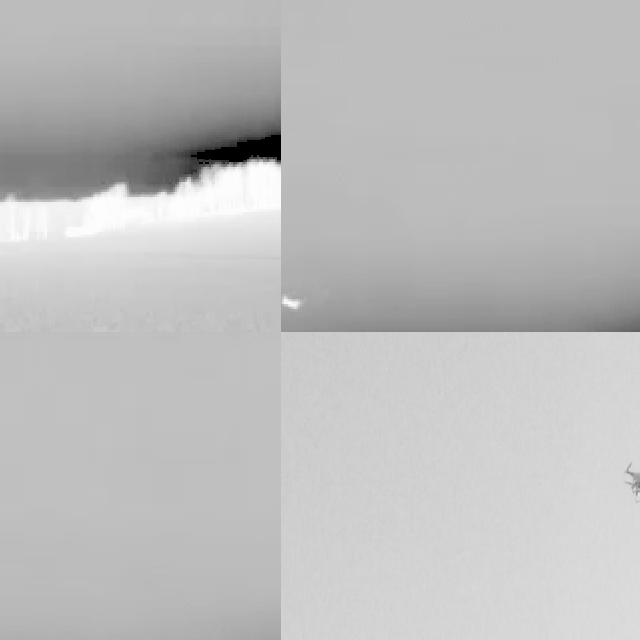1: (281, 290, 310, 322)
drone: (621, 455, 640, 509)
